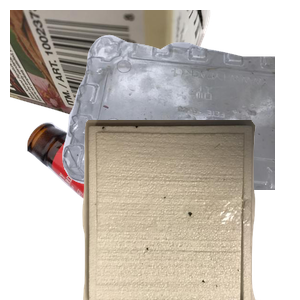cardboard: (10, 10, 213, 146)
glass: (25, 120, 265, 300)
plastic: (60, 32, 300, 212)
trash: (80, 120, 300, 300)
